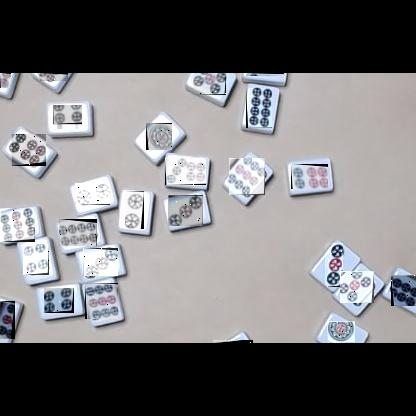1p: (146, 123, 172, 150), (327, 321, 355, 343)
2p: (75, 183, 110, 205), (125, 191, 144, 229)
3p: (168, 195, 203, 226), (83, 248, 118, 276), (325, 243, 343, 287)
4p: (23, 244, 49, 275), (44, 288, 74, 313), (53, 106, 82, 129)
5p: (340, 271, 374, 303), (193, 73, 226, 95)
6p: (11, 134, 46, 166), (291, 164, 328, 189), (246, 73, 284, 76)
7p: (165, 157, 206, 185), (39, 73, 68, 81), (0, 73, 11, 88)
8p: (246, 88, 272, 128), (59, 219, 97, 246), (391, 275, 416, 306), (213, 340, 253, 343)
9p: (229, 158, 265, 195), (0, 208, 35, 242), (85, 283, 118, 319), (0, 301, 15, 339)
